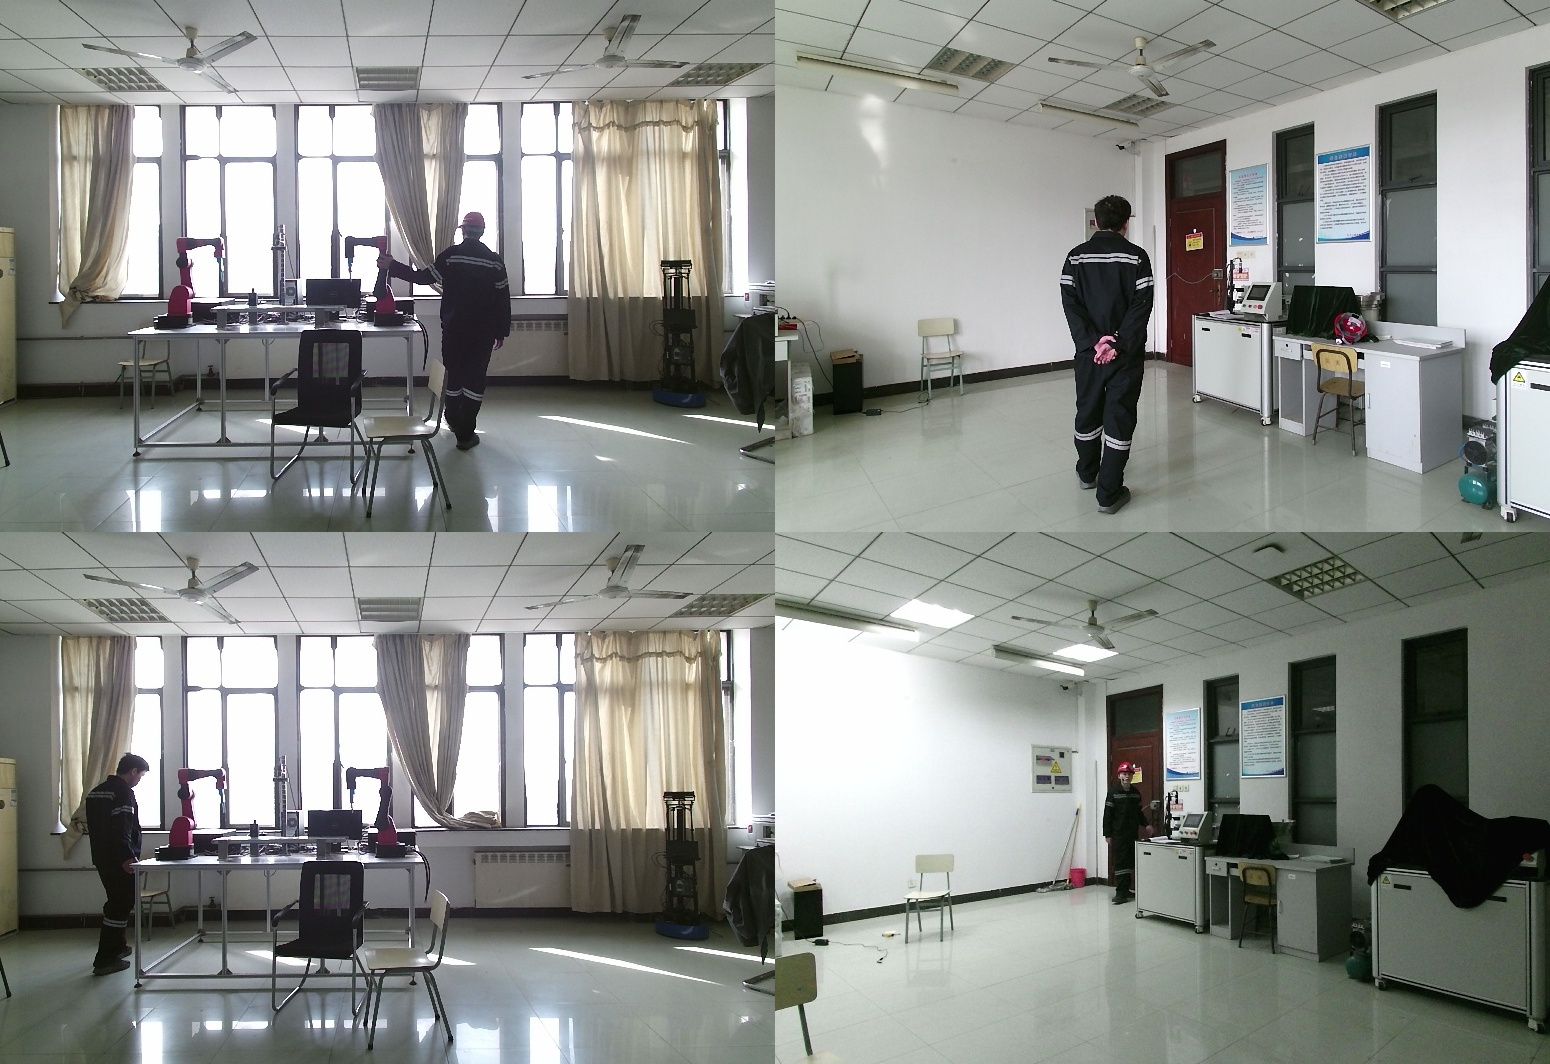person: (1058, 197, 1167, 513), (379, 213, 521, 452), (83, 755, 150, 977), (1100, 760, 1145, 906)
